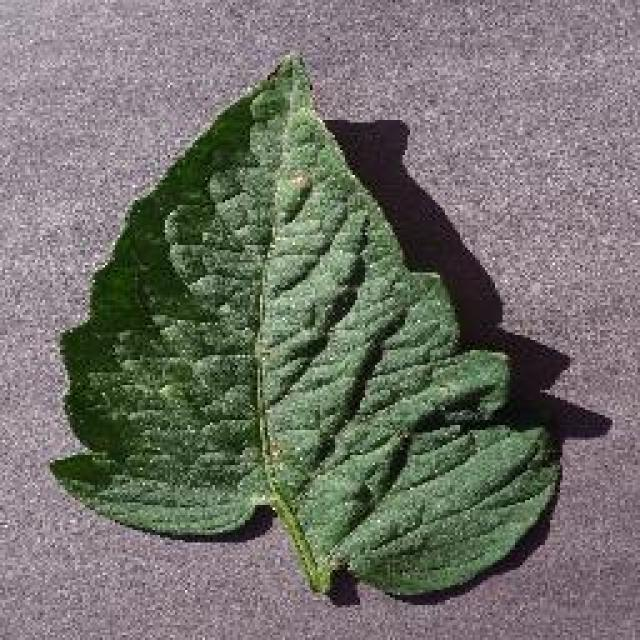Tom_Target_Spot: (259, 142, 329, 216)
